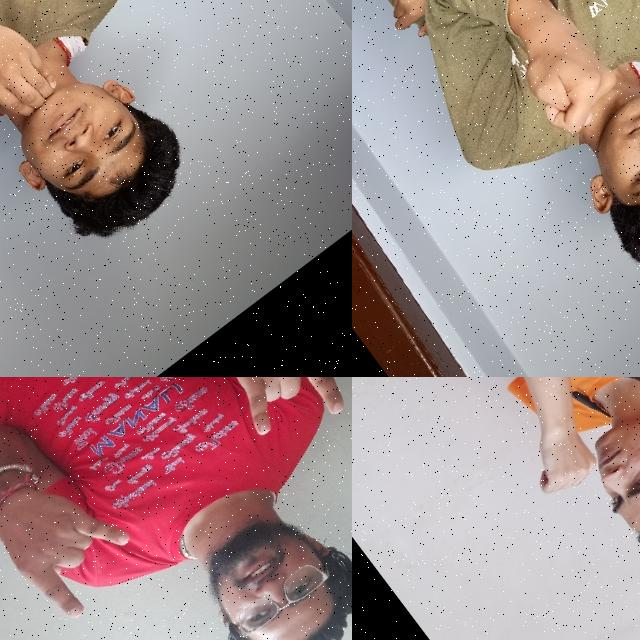Chin Flick: (0, 0, 195, 267)
Corna: (0, 442, 161, 640), (180, 377, 352, 468)
Dulya: (480, 0, 640, 152)
Fist Mouth: (506, 377, 640, 605)
